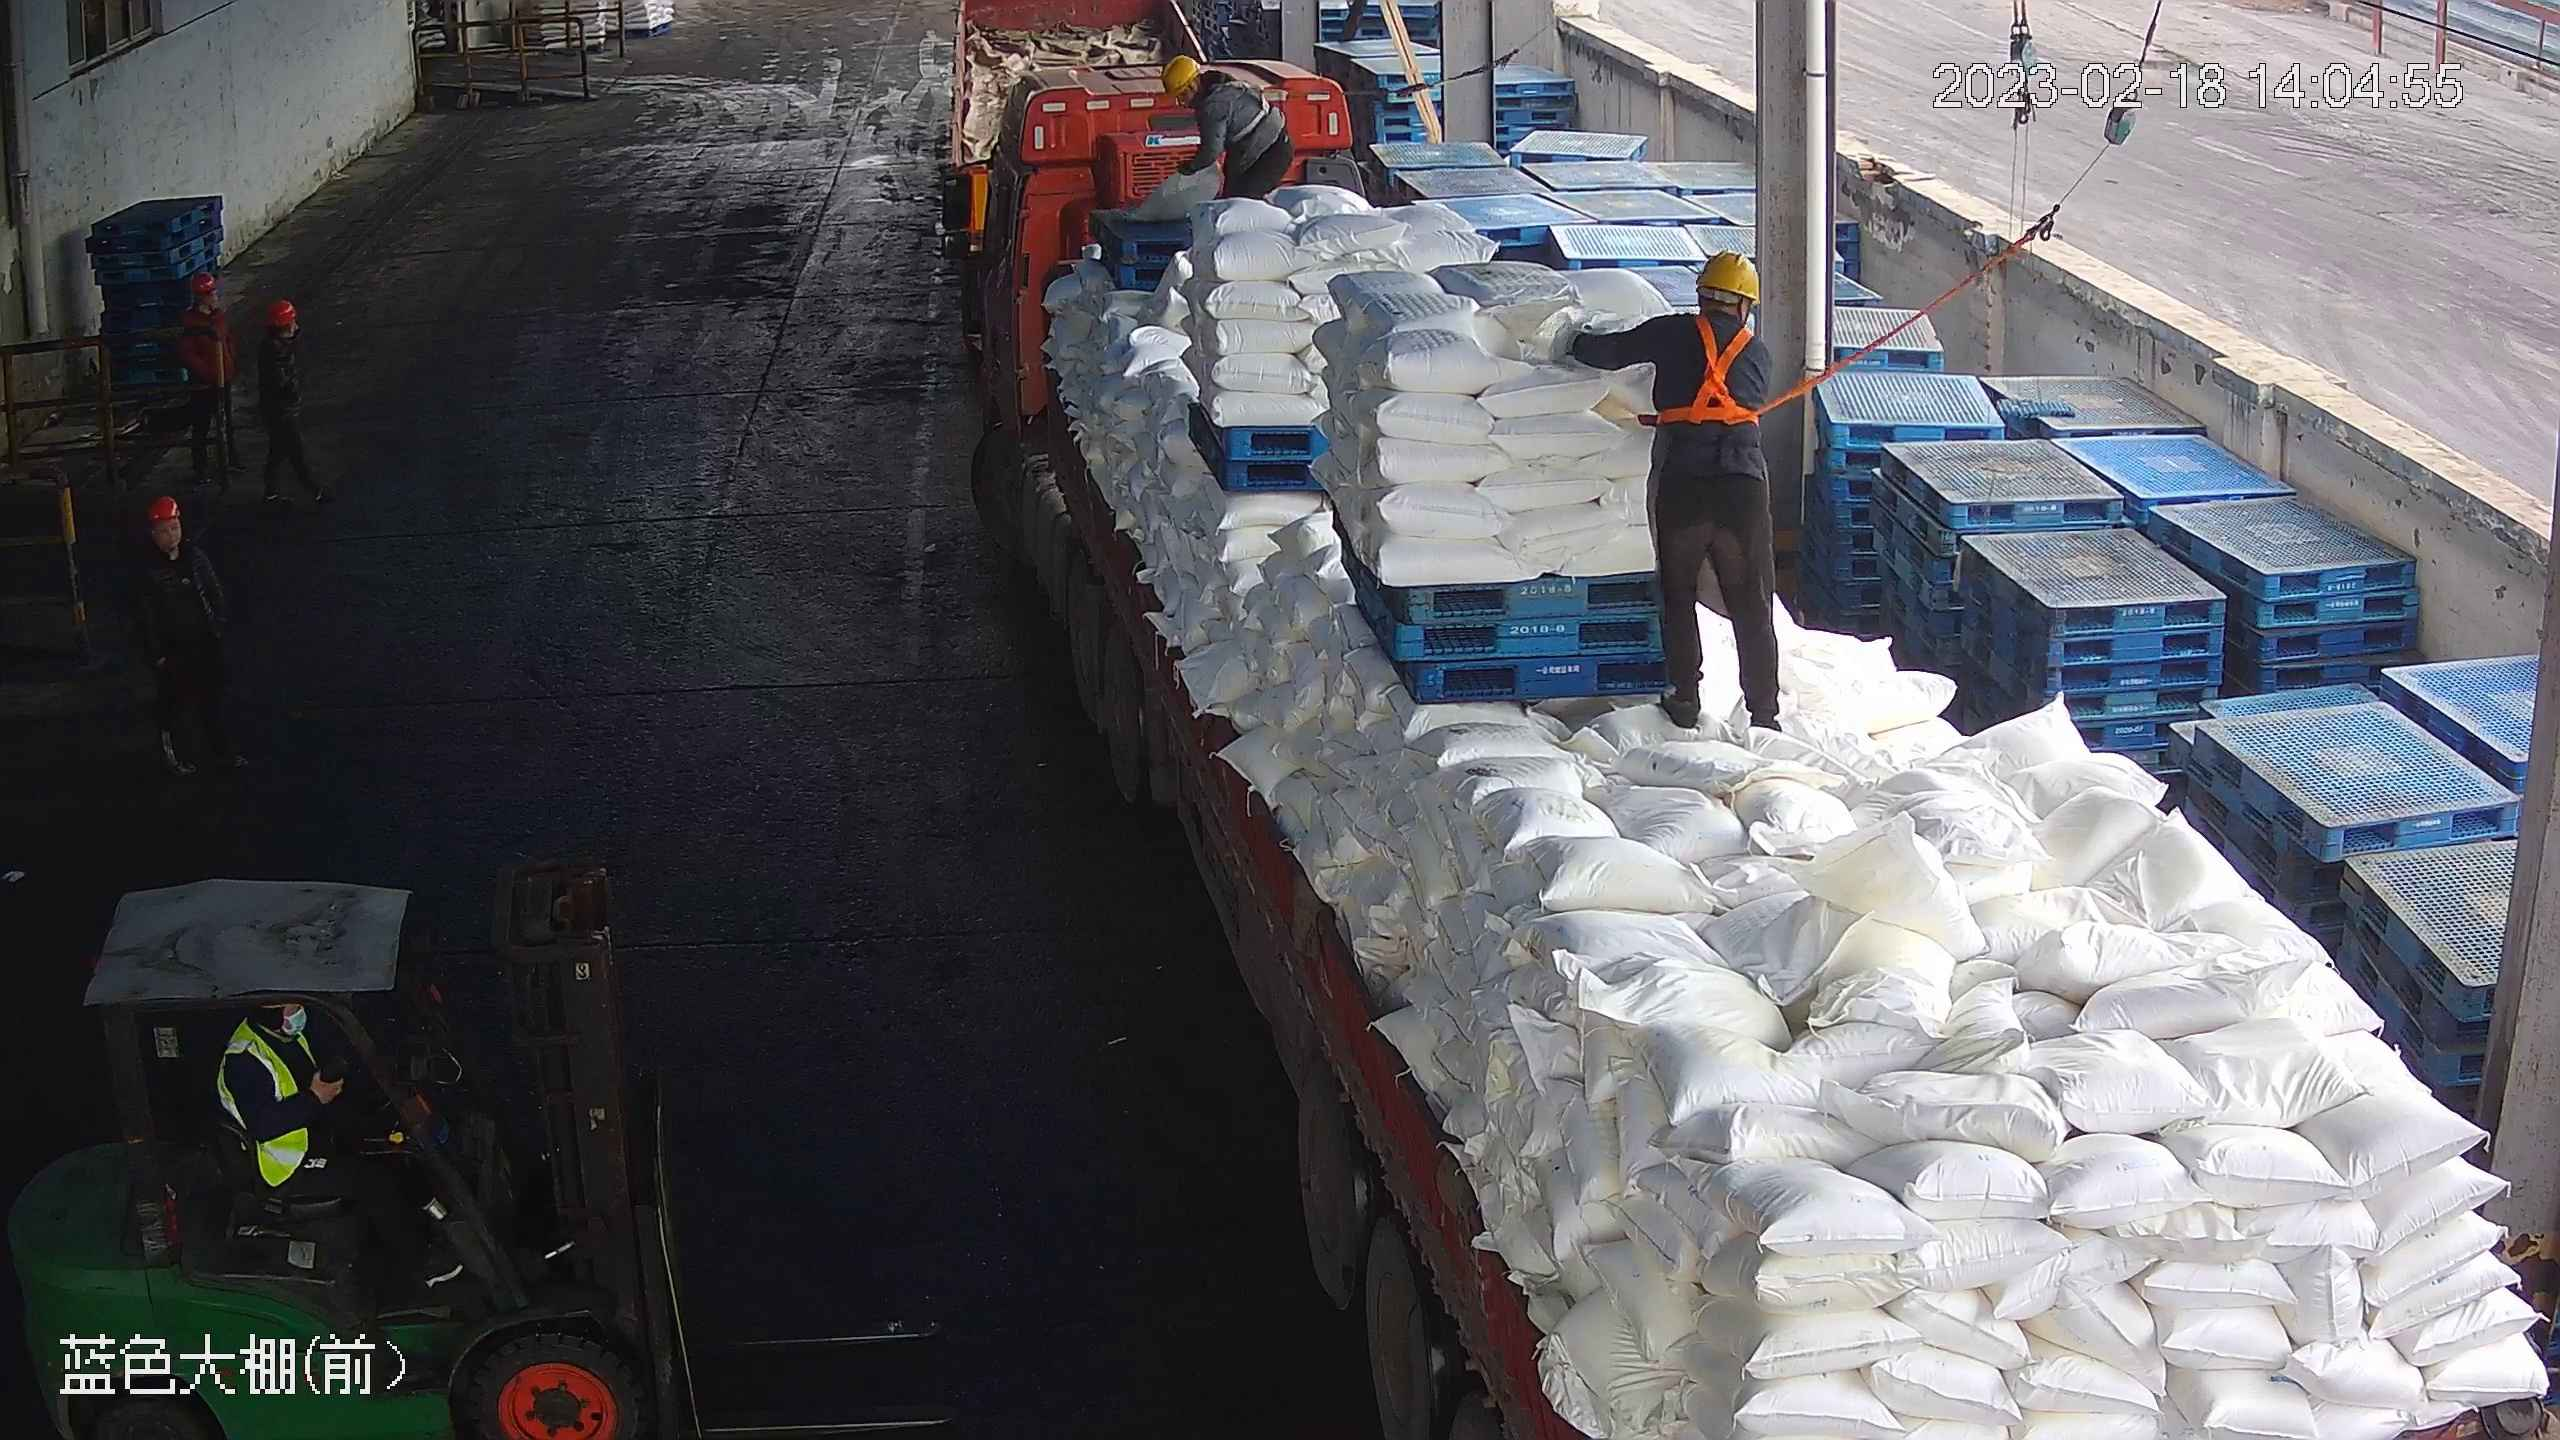belt: (1656, 311, 1764, 429), (1209, 66, 1282, 137)
head: (1637, 249, 1782, 382), (133, 494, 219, 599), (1159, 52, 1247, 122), (249, 295, 306, 369), (182, 266, 233, 341)
helmet: (1693, 247, 1763, 303), (1158, 54, 1200, 97), (146, 494, 182, 523), (265, 297, 299, 324), (188, 269, 212, 291)
people: (1559, 250, 1790, 735), (211, 992, 447, 1283), (131, 491, 237, 787), (1157, 52, 1298, 204), (243, 293, 332, 506), (181, 269, 246, 483)
truck: (950, 46, 2548, 1440)
